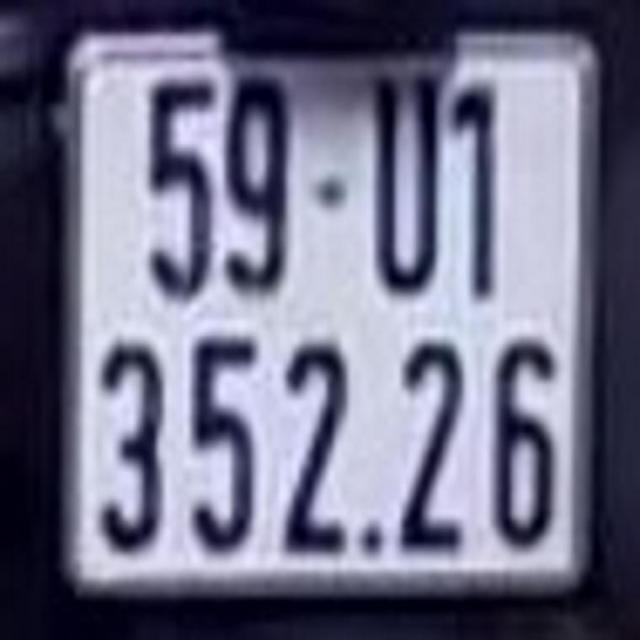1: (452, 76, 504, 306)
2: (284, 339, 352, 559), (404, 334, 463, 548)
3: (100, 339, 165, 552)
5: (143, 71, 219, 306), (189, 332, 256, 551)
6: (494, 333, 557, 544)
9: (224, 72, 286, 300)
U: (369, 68, 442, 295)
